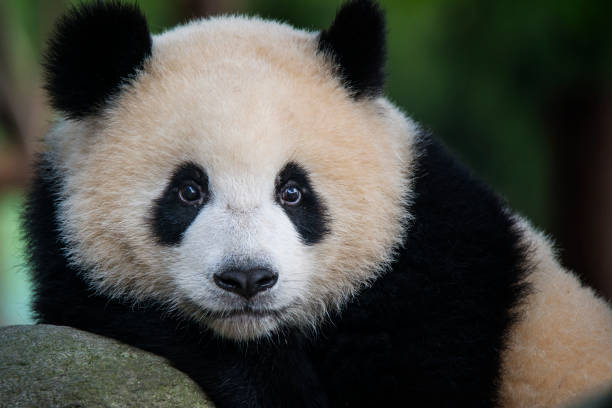panda: (11, 4, 474, 394)
